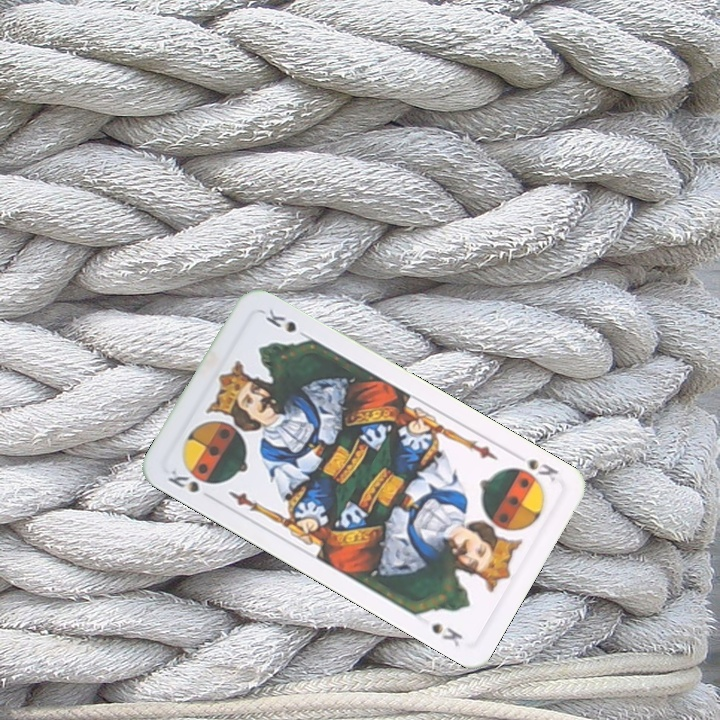SK: (509, 451, 561, 484), (163, 464, 202, 496)
